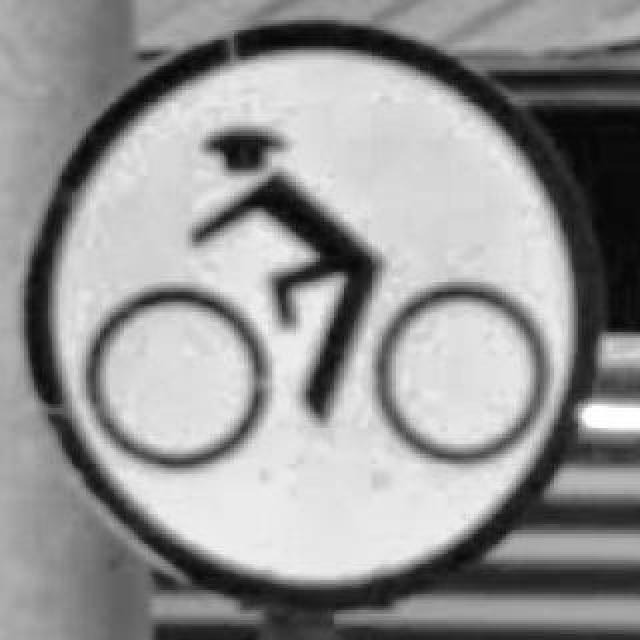bike lane: (22, 18, 600, 610)
